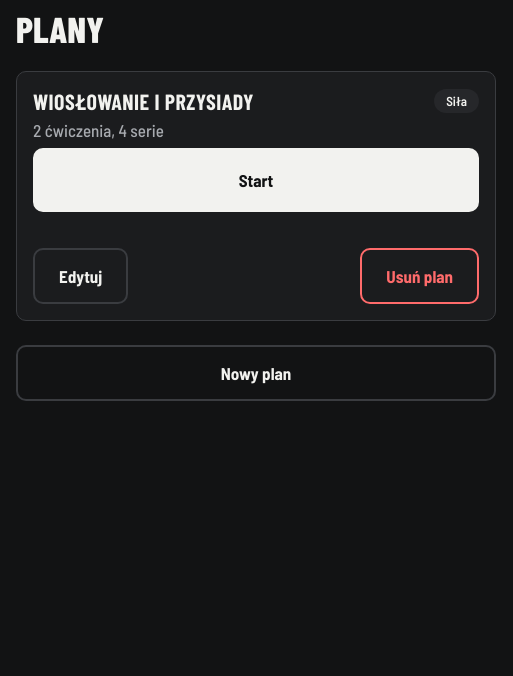
it: rest view › opens after "Gotowe" with 0:15, the next set and the early-end button
Click the button "Start".
click(256, 180)  # box [33, 148, 479, 212]
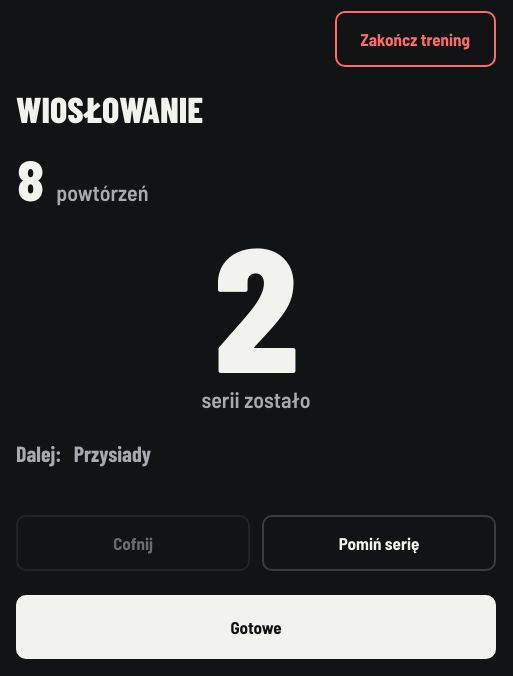
Click the button "Gotowe".
click(256, 627)  # box [16, 595, 496, 659]
(page scrolled)
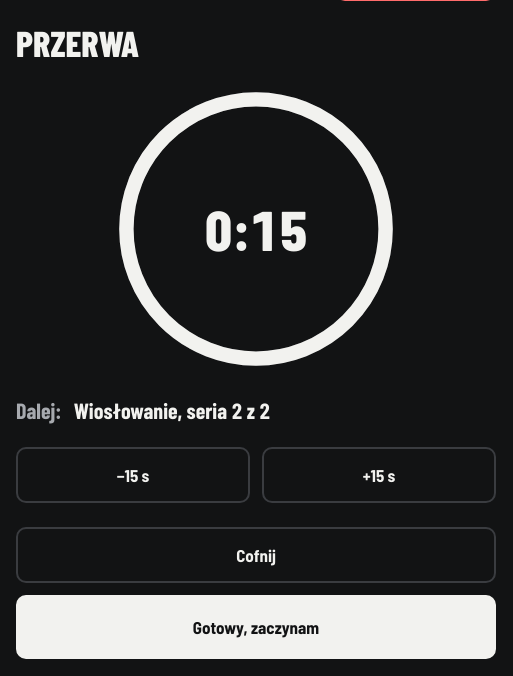
Check: the heading "Przerwa" is shown, box [16, 21, 139, 64]
Check: the text "Dalej: Wiosłowanie, seria 2 z 2" is shown, box [16, 397, 270, 423]
